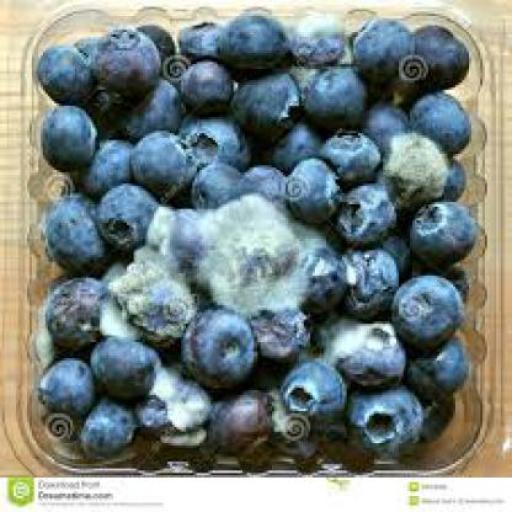biodegradable: (197, 195, 304, 310), (108, 257, 197, 342), (178, 306, 256, 386), (134, 358, 204, 446), (312, 312, 398, 381), (41, 188, 108, 276), (41, 275, 118, 349), (344, 381, 419, 452), (387, 273, 462, 342), (282, 356, 352, 427), (127, 129, 197, 200), (346, 13, 413, 85), (86, 333, 159, 399), (89, 28, 156, 99), (231, 66, 297, 136), (218, 6, 288, 70), (298, 60, 365, 126), (204, 386, 270, 452), (143, 202, 204, 273), (383, 130, 442, 202), (266, 372, 320, 450), (406, 88, 467, 156), (176, 111, 246, 170), (406, 195, 470, 259), (34, 356, 100, 418), (242, 300, 308, 361), (403, 330, 465, 394), (340, 246, 398, 314), (329, 177, 390, 241), (70, 133, 132, 193), (408, 24, 465, 88), (97, 182, 154, 246), (39, 103, 93, 170), (77, 394, 133, 458), (34, 44, 98, 99), (121, 74, 181, 130), (170, 55, 231, 110), (283, 156, 337, 216), (317, 129, 378, 179), (299, 241, 342, 310), (258, 120, 319, 168), (80, 82, 134, 136), (288, 16, 346, 66), (406, 260, 470, 298), (188, 162, 242, 204), (231, 160, 281, 202), (360, 96, 403, 144), (419, 392, 454, 439), (174, 18, 220, 53), (288, 214, 331, 250), (431, 153, 464, 198), (138, 19, 175, 57), (378, 234, 410, 271), (372, 169, 404, 198), (70, 36, 100, 60)
plastic: (4, 0, 510, 475)
